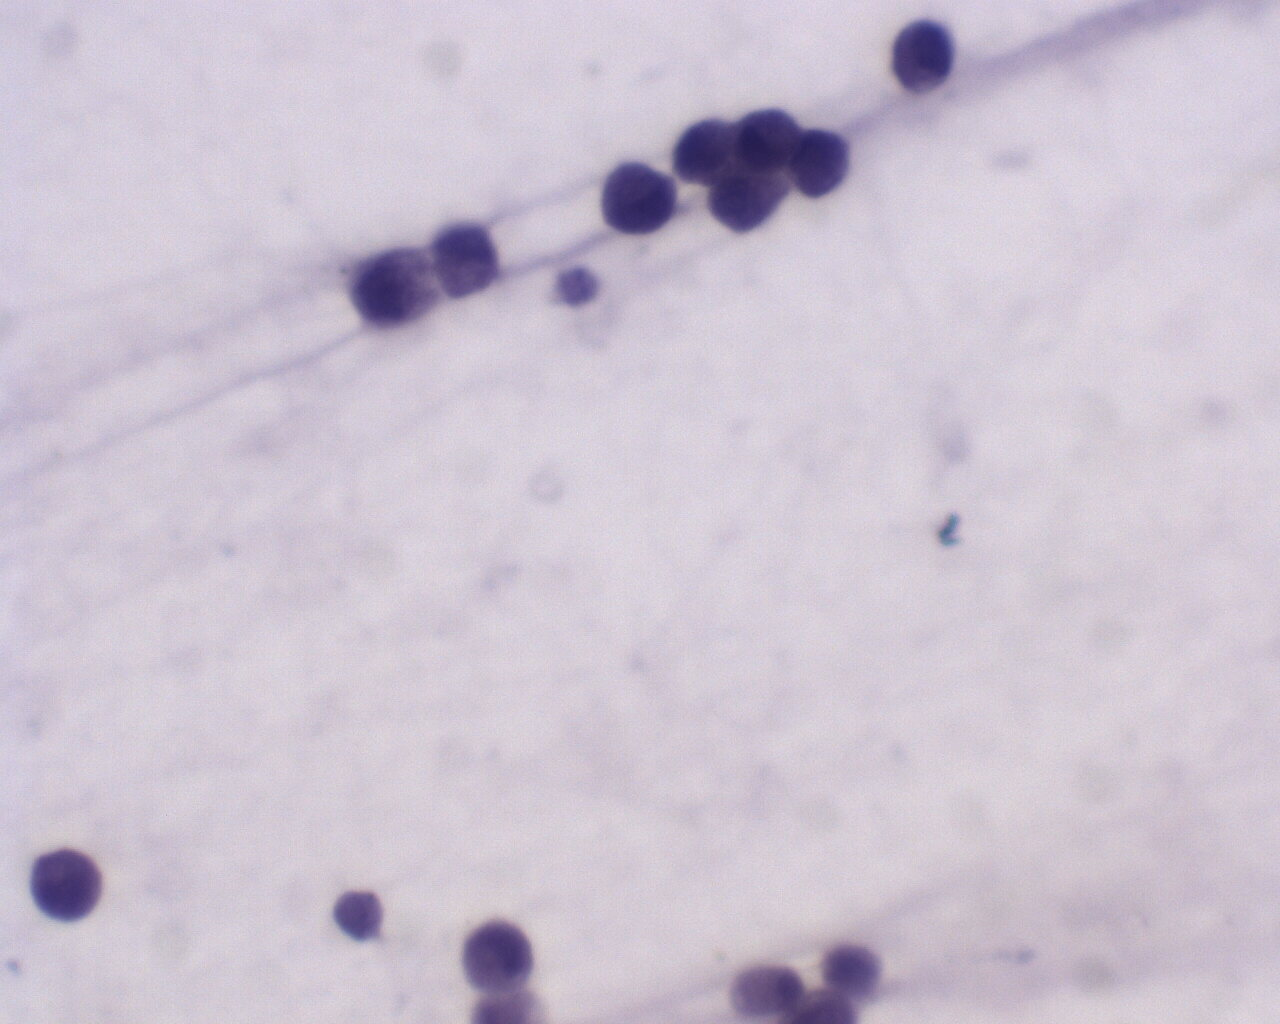ab: (598, 160, 686, 243), (885, 11, 965, 94), (29, 844, 111, 925), (709, 169, 800, 237), (668, 114, 746, 186), (786, 126, 856, 205)
